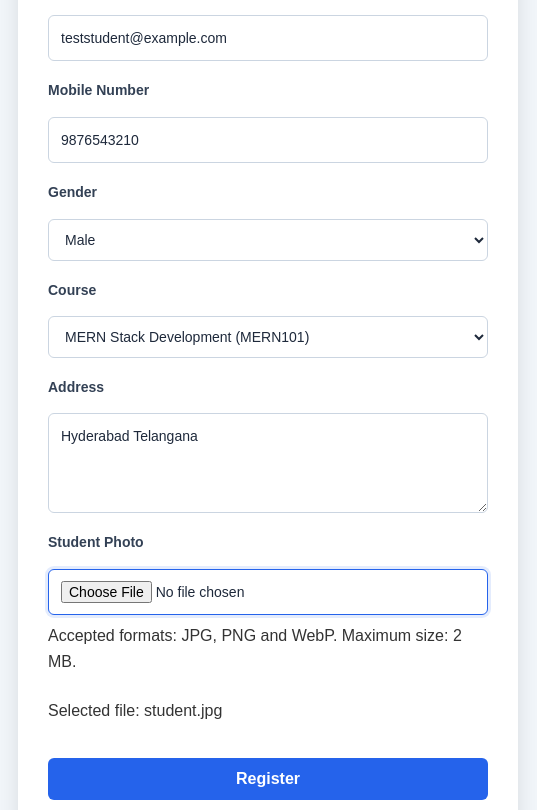
Test: StudentForm Component › should display an error when photo upload fails
Earlier steps of the test are not shown.
(page scrolled)
Click the button "Register".
click(268, 779)  # box [48,758,488,800]
(page scrolled)
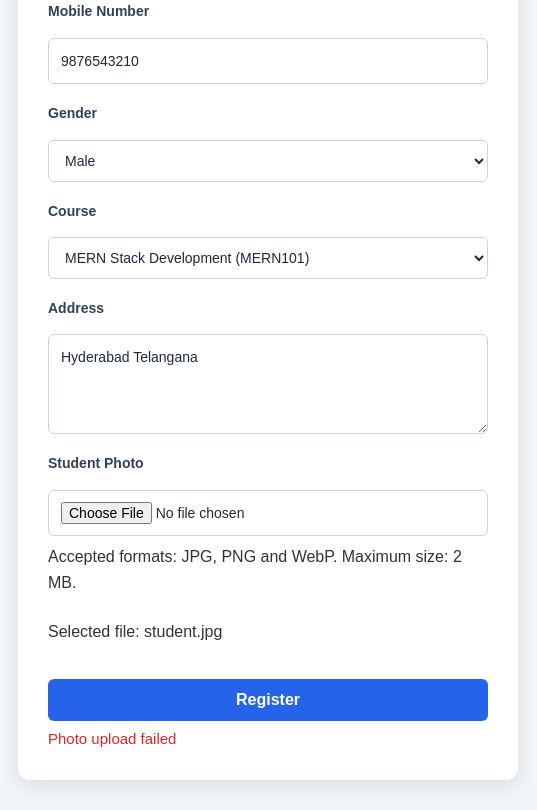
Check: the text "Photo upload failed" is shown, box [48,730,176,747]
